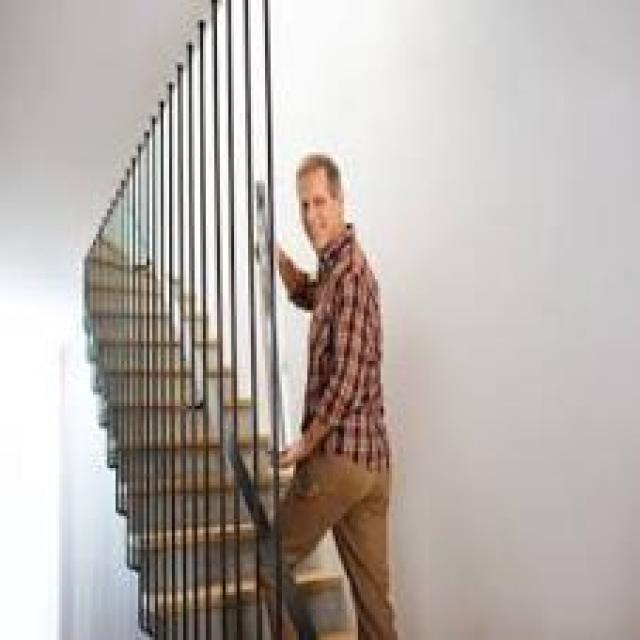stair: (138, 397, 437, 626)
